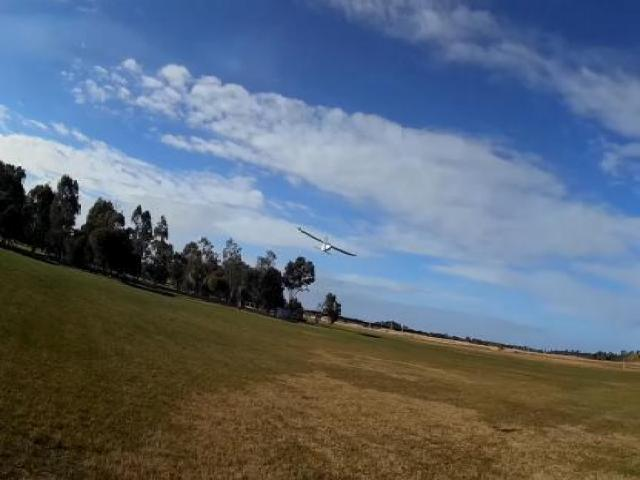uav: (293, 222, 362, 268)
